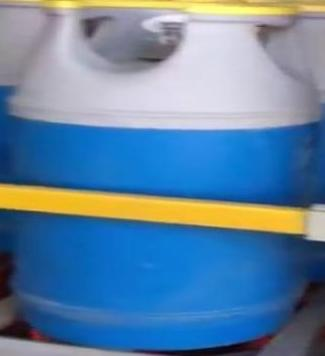cylinder: (1, 0, 325, 356)
